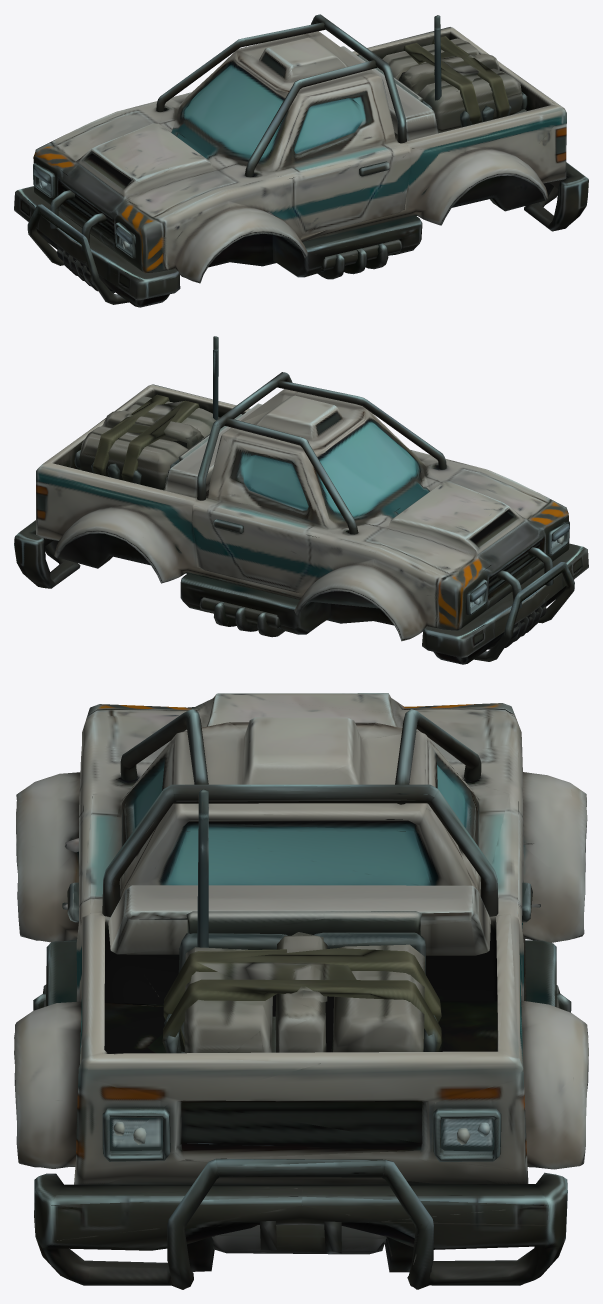
File: rover.glb
3 views of the same model, one above another, from view 1: azimuth 30°, elevation 25°; view 2: azimuth 150°, elevation 25°; view 3: azimuth 270°, elevation 25° (orthographic). The views are drawn at different scales.
Visible parts, largest first — view 1: geometry_0; view 2: geometry_0; view 3: geometry_0.
Boxes of the visible parts, bbox=[...] form: geometry_0: bbox=[14, 14, 588, 307]; geometry_0: bbox=[14, 336, 588, 664]; geometry_0: bbox=[14, 693, 588, 1289].
Bounding box in the file's own units: 1 × 0.4341 × 0.5501.
Materials: 1 (1 with a texture image).
